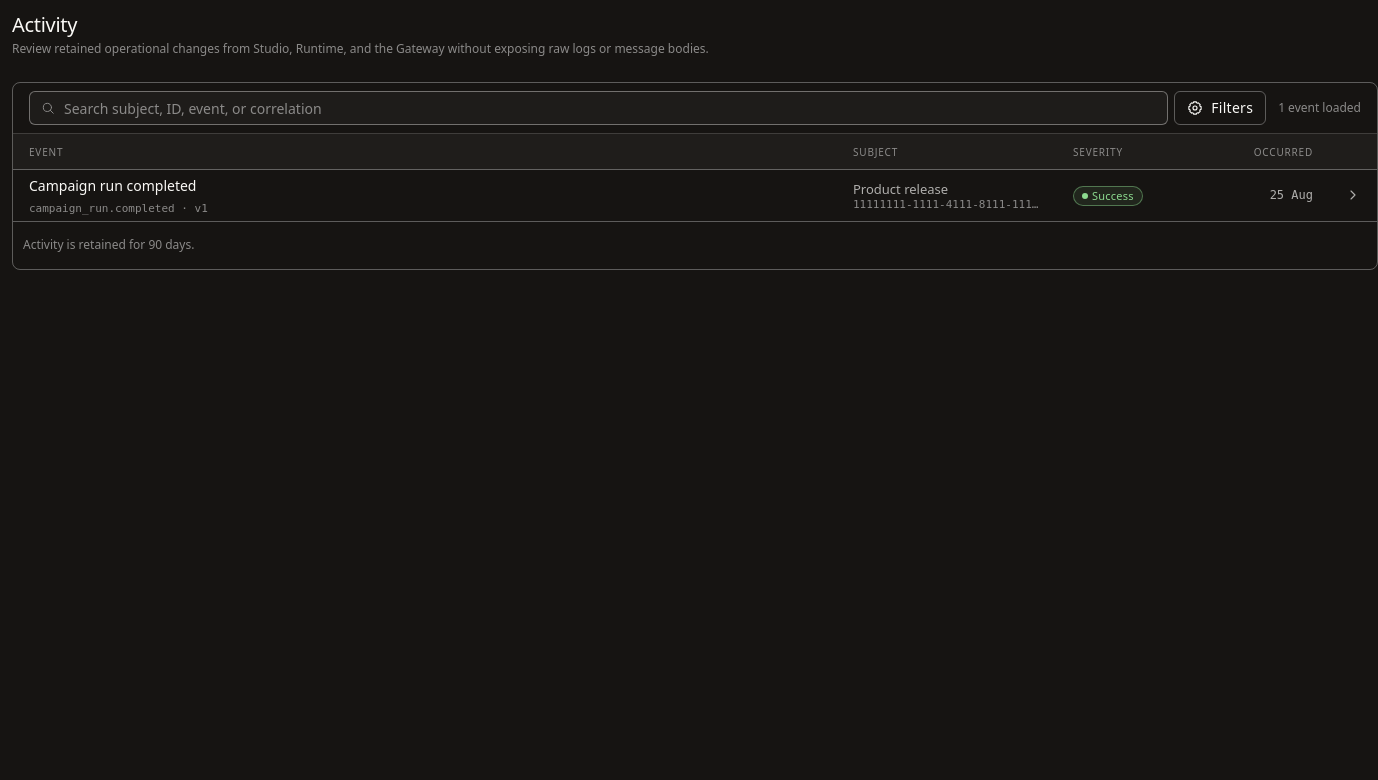
Test: ActivityScreen › applies a UTC start when the operator selects a retained time range
The width and height of the screenshot is (1378, 780).
Click the button "Filters" at (1220, 108), box left=1174, top=91, right=1266, bottom=125
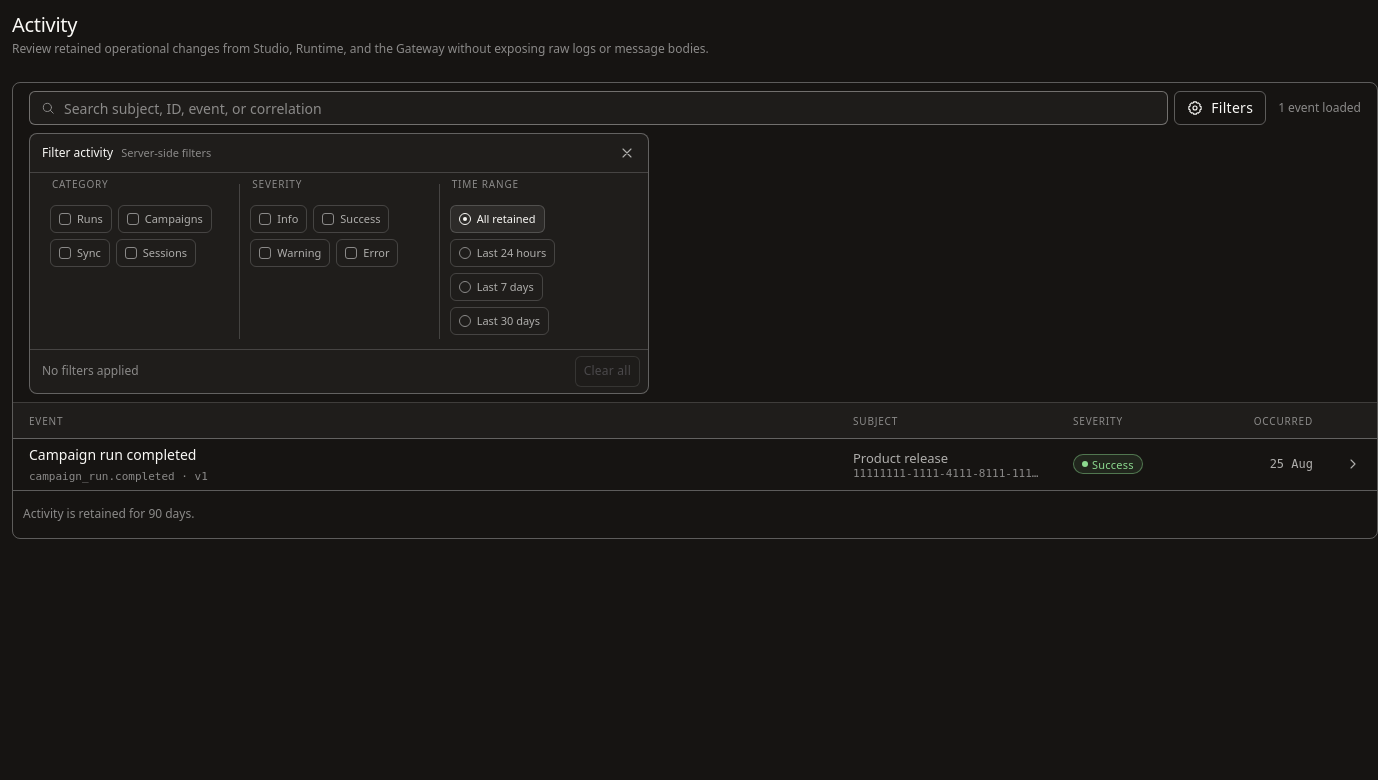
Click the radio button labelled "Last 7 days" at (465, 287), box left=459, top=281, right=471, bottom=293
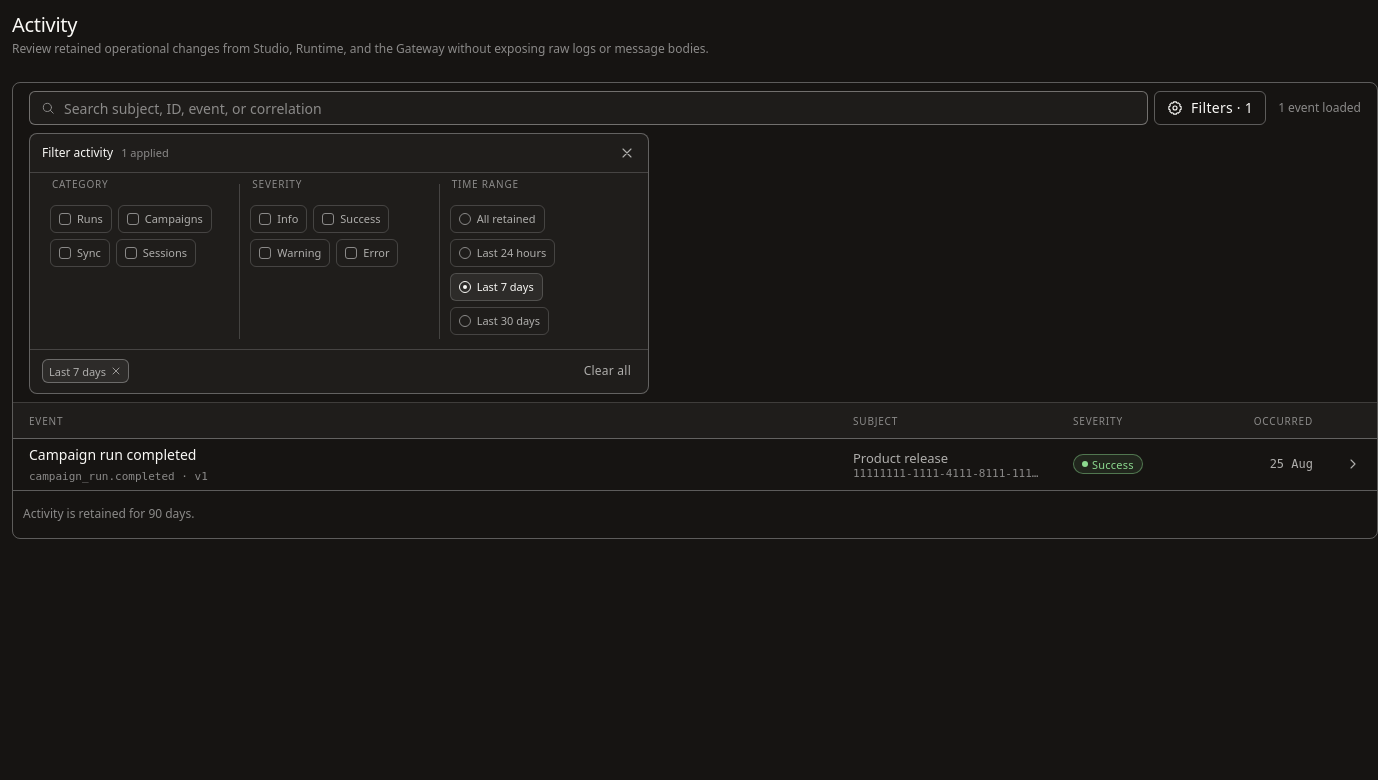
Result: the text "1 applied" is shown at left=121, top=145, right=169, bottom=160
